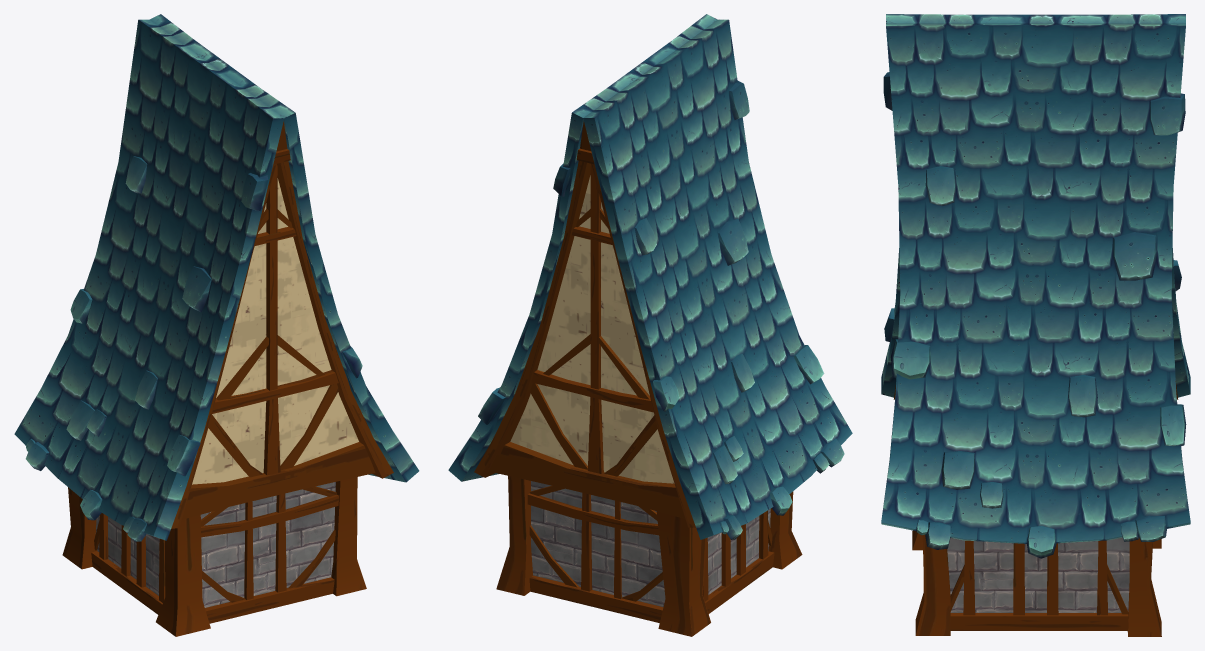
The model's file is SM_BLD_body_v01_01.glb.
The picture shows the model from 3 angles, left to right: view 1: azimuth 30°, elevation 25°; view 2: azimuth 150°, elevation 25°; view 3: azimuth 270°, elevation 25°; orthographic projection. The views are drawn at different scales.
Visible parts, largest first — view 1: SM_BLD_body_v01_01_EXPORT; view 2: SM_BLD_body_v01_01_EXPORT; view 3: SM_BLD_body_v01_01_EXPORT.
Boxes of the visible parts, <box> form: SM_BLD_body_v01_01_EXPORT: <box>14,14,419,636</box>; SM_BLD_body_v01_01_EXPORT: <box>448,14,852,636</box>; SM_BLD_body_v01_01_EXPORT: <box>881,14,1190,636</box>.
Size of the model in its own units: 8.21 by 14.28 by 7.11.
Materials: 4 (4 with a texture image).
